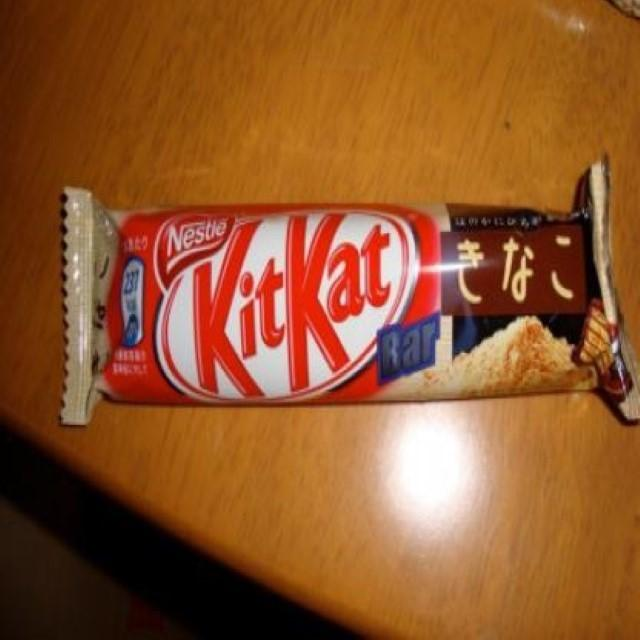kitkat_chocolate: (85, 223, 592, 405)
